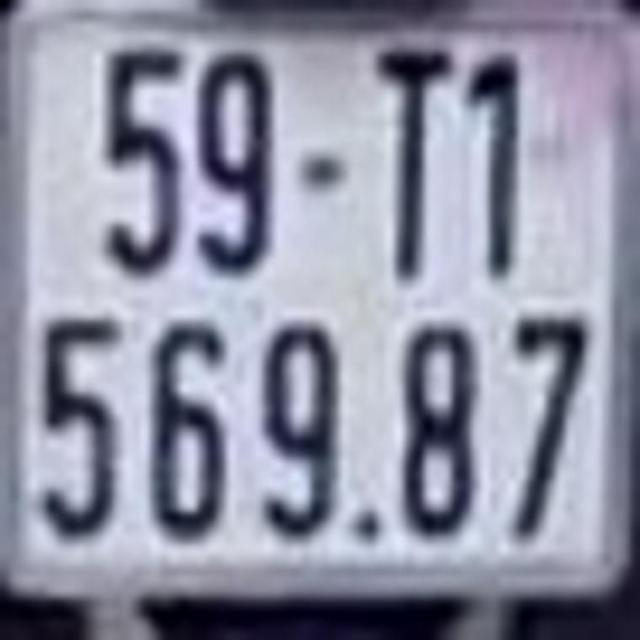1: (463, 44, 525, 286)
5: (100, 41, 184, 266), (40, 314, 124, 534)
6: (143, 316, 231, 532)
7: (511, 308, 589, 540)
8: (397, 309, 482, 542)
9: (195, 45, 282, 278), (260, 315, 339, 536)
T: (372, 42, 452, 280)
